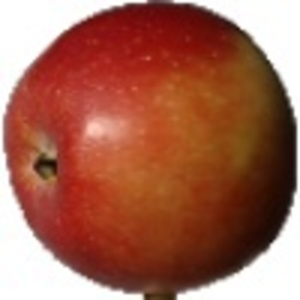maçã braeburn: (1, 3, 299, 292)
